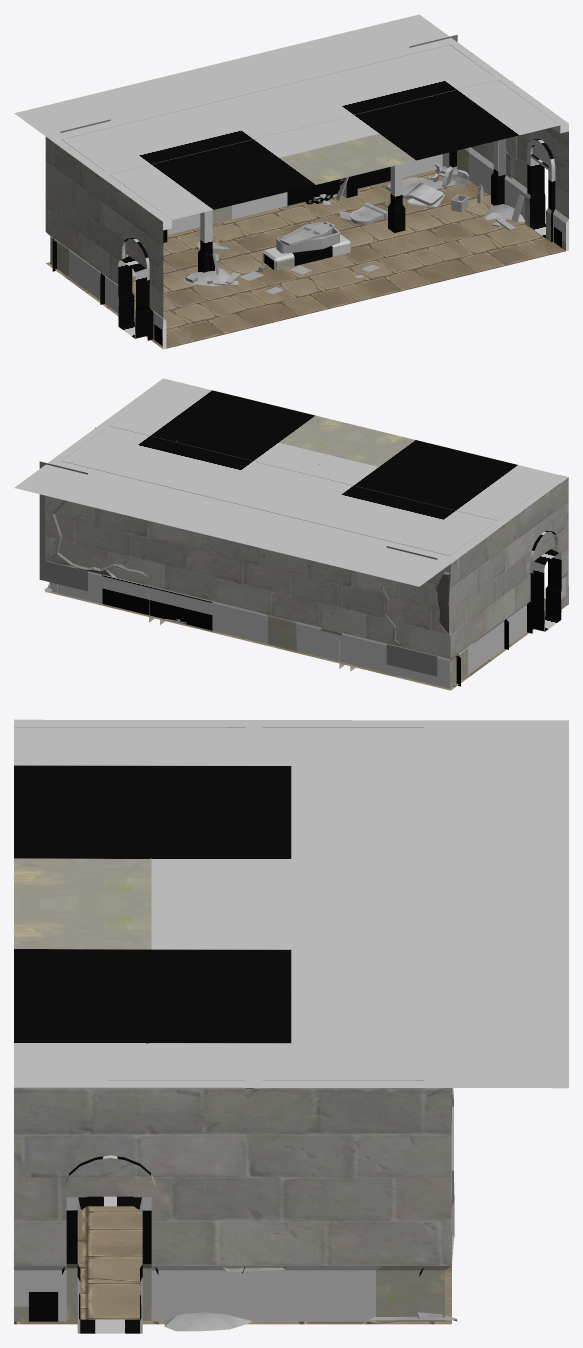
File: MSH_QuestMausoleum_L2_R2_optimized.fbx
3 renders of one model, top to bottom at view 1: azimuth 30°, elevation 25°; view 2: azimuth 150°, elevation 25°; view 3: azimuth 270°, elevation 25°, orthographic. The views are drawn at different scales.
Visible parts, largest first — view 1: lightmap2, lightmap6, lightmap5, lightmap0, lightmap1, MSH_QuestMausoleum_L2_R2_Black_01, MSH_QuestMausoleum_L2_R2_Decals_01; view 2: lightmap2, lightmap6, MSH_QuestMausoleum_L2_R2_Decals_01, lightmap1, lightmap5; view 3: lightmap2, lightmap6, lightmap1, lightmap5, lightmap0.
Boxes of the visible parts, x1,y1,x2,y2 form: lightmap2: (14, 14, 567, 348); lightmap6: (45, 127, 568, 345); lightmap5: (52, 44, 560, 304); lightmap0: (132, 95, 524, 294); lightmap1: (118, 139, 555, 340); MSH_QuestMausoleum_L2_R2_Black_01: (163, 123, 568, 349); MSH_QuestMausoleum_L2_R2_Decals_01: (60, 35, 512, 176); lightmap2: (14, 378, 568, 690); lightmap6: (45, 478, 568, 688); MSH_QuestMausoleum_L2_R2_Decals_01: (39, 427, 437, 676); lightmap1: (527, 531, 561, 633); lightmap5: (57, 384, 560, 686); lightmap2: (14, 719, 568, 1324); lightmap6: (14, 1088, 454, 1321); lightmap1: (62, 1155, 158, 1333); lightmap5: (14, 727, 450, 1314); lightmap0: (164, 1278, 457, 1331).
Bounding box in the file's own units: 20.6 × 6.27 × 12.49.
